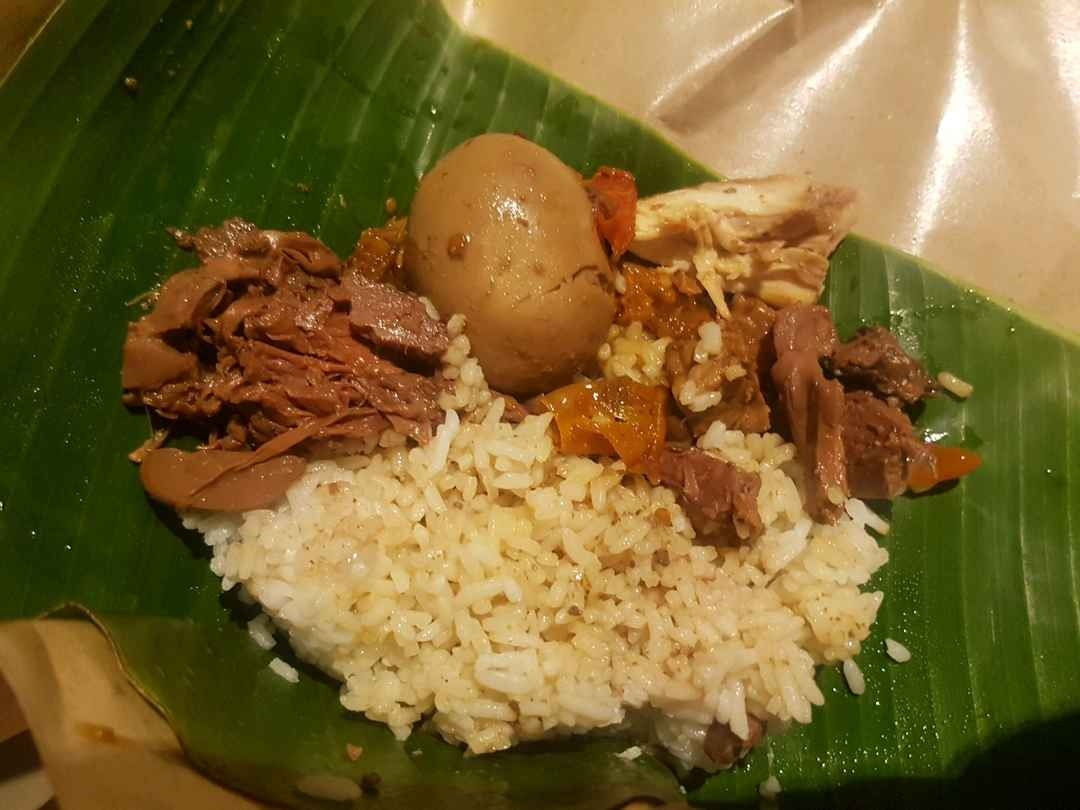gudeg: (129, 148, 950, 756)
